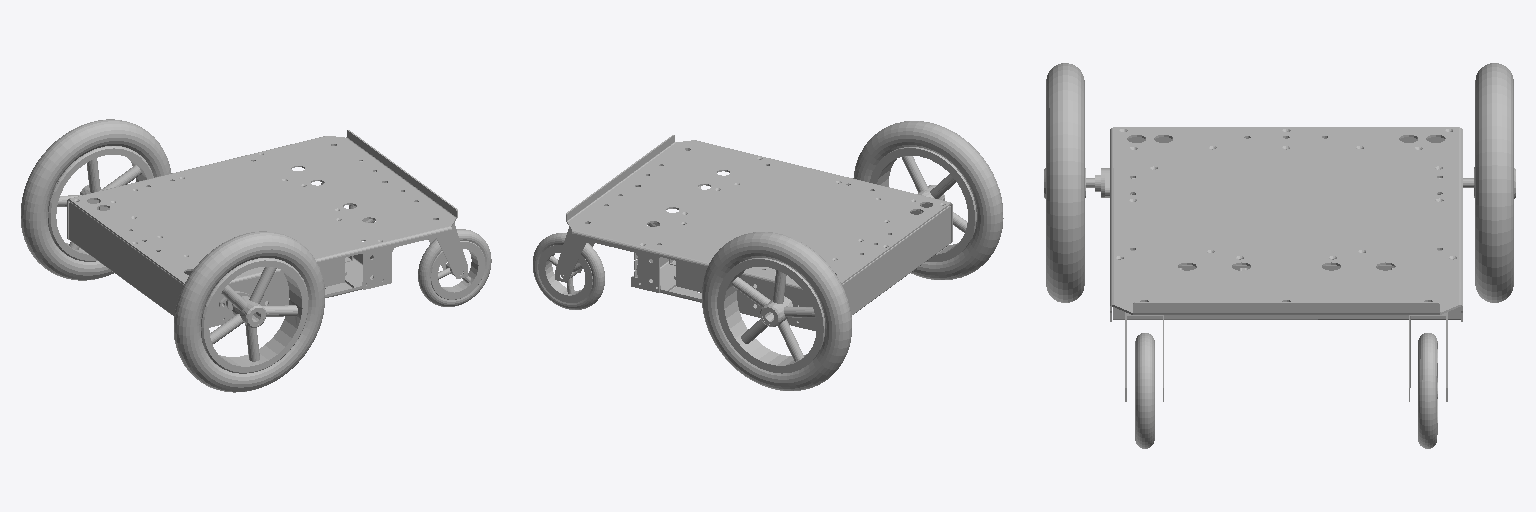
robot.urdf — drp4:
<robot
  name="drp4">
  <link
    name="dpr4_base_link">
   <!-- <inertial>
      <origin
        xyz="0.154317894661027 -0.171653274550782 19.4044520777273"
        rpy="0 0 0" />
      <mass
        value="58.7200210441329" />
      <inertia
        ixx="1.221164310186"
        ixy="0.0202597551529128"
        ixz="0.0102736914078772"
        iyy="1.6606181171195"
        iyz="-0.000642024699974461"
        izz="0.557651825849937" /> 
    </inertial> -->
   <inertial>
      <origin
        xyz="0 0 0"
        rpy="0 0 0" />
      <mass
        value="58.7200210441329" />
      <inertia
        ixx="0"
        ixy="0"
        ixz="0"
        iyy="0"
        iyz="0"
        izz="0" /> 
    </inertial>
    <visual>
      <origin
        xyz="0 0 0"
        rpy="0 0 0" />
      <geometry>
        <mesh
          filename="package://oscar_description/meshes/dpr4_base_link.STL" />
      </geometry>
      <material
        name="">
        <color
          rgba="0.752941176470588 0.752941176470588 0.752941176470588 1" />
      </material>
    </visual>
    <collision>
      <origin
        xyz="0 0 0"
        rpy="0 0 0" />
      <geometry>
        <mesh
          filename="package://oscar_description/meshes/dpr4_base_link.STL" />
      </geometry>
    </collision>
  </link>
</robot>

--- Facts derived from the render (not from the file) ---
The picture shows the robot from 3 angles, left to right: view 1: azimuth 30°, elevation 25°; view 2: azimuth 150°, elevation 25°; view 3: azimuth 270°, elevation 25°; orthographic projection.
Robot: drp4 — 1 links, 0 joints (none); root link dpr4_base_link; default pose: all joints at 0.
Visible links, largest first — view 1: dpr4_base_link; view 2: dpr4_base_link; view 3: dpr4_base_link.
Link boxes in pixels (x1,y1,x2,y2): dpr4_base_link: (21,119,491,392); dpr4_base_link: (533,121,1003,390); dpr4_base_link: (1044,63,1515,448).
Size in the robot's own frame: 0.7182 by 0.6076 by 0.3095 metres.
Meshes: 1 distinct files referenced, 1 mesh visuals loaded (1 binary STL).
